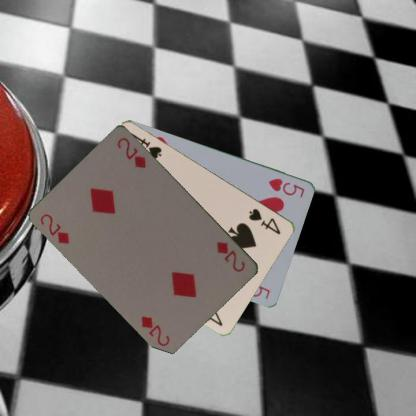2d: (214, 239, 247, 273), (38, 211, 71, 245)
4s: (246, 206, 283, 235)
5h: (266, 175, 306, 199)
